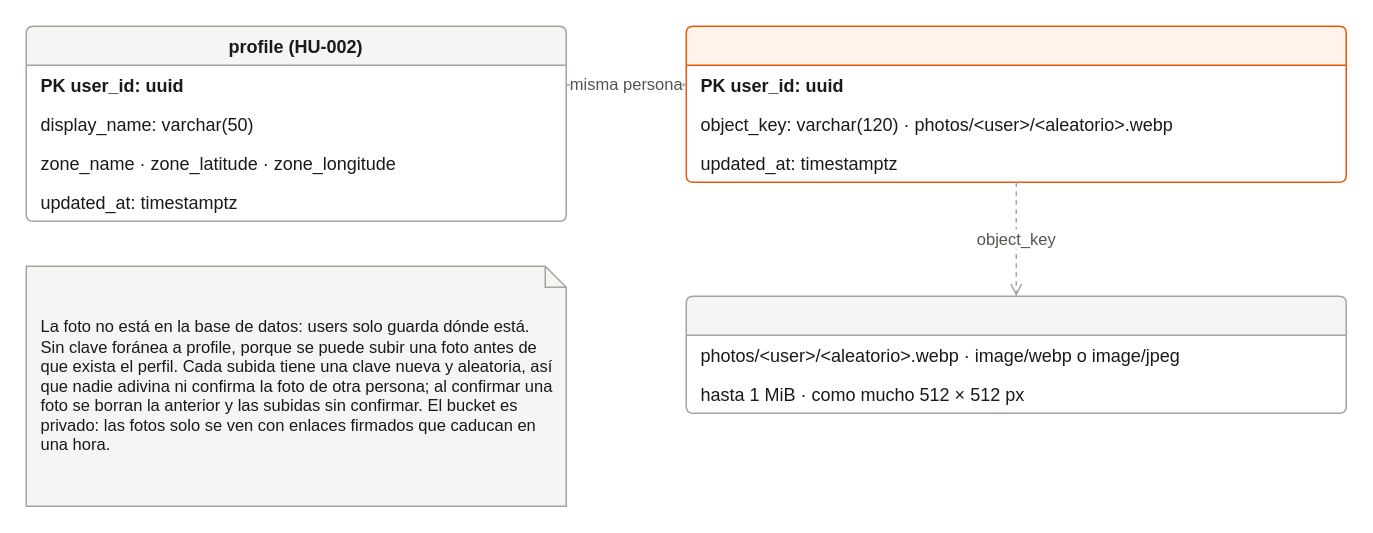
The diagram is 1373 pixels wide and 533 high, and some of its shapes have lost their labels. Each missing label, with the box of its shape:
oneleft-photos (bucket privado, compatible con S3): (685, 295, 1346, 413)
profile_photo (foto de perfil): (685, 25, 1346, 182)
